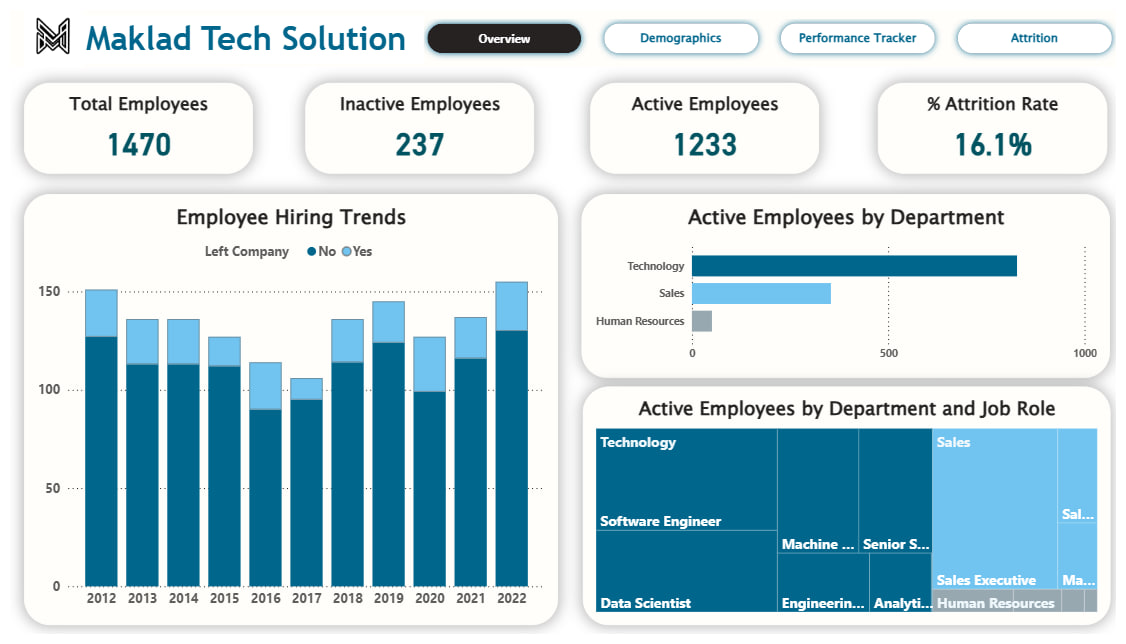

What the dashboard file says about the page in this screenshot:
{"tool":"powerbi","page":{"name":"Overview","canvas":[1280,720],"ordinal":0},"visuals":[{"type":"card","title":"Total Employees","fields":{"Values":["_Measures.TotalEmployees"]},"box":[17.5,84,261.2,103.8],"z":0},{"type":"card","title":"Active Employees","fields":{"Values":["_Measures.ActiveEmployees"]},"box":[665,84,261.2,103.8],"z":1000},{"type":"card","title":"Inactive Employees","fields":{"Values":["_Measures.InactiveEmployees"]},"box":[338.8,84,261.2,103.8],"z":2000},{"type":"card","title":"% Attrition Rate","fields":{"Values":["_Measures.% Attrition Rate"]},"box":[992.5,84,262.5,103.8],"z":3000},{"type":"columnChart","title":"Employee Hiring Trends","fields":{"Series":["DimEmployee.Attrition"],"Y":["_Measures.TotalEmployeesDate"],"Category":["DimDate.Date.Variation.Date Hierarchy.Year","DimDate.Date.Variation.Date Hierarchy.Quarter","DimDate.Date.Variation.Date Hierarchy.Month","DimDate.Date.Variation.Date Hierarchy.Day"]},"box":[17.5,211.2,610,492.5],"z":4000},{"type":"clusteredBarChart","title":"Active Employees by Department","fields":{"Y":["_Measures.ActiveEmployees"],"Category":["DimEmployee.Department"]},"box":[653.8,211.2,603.8,210],"z":5000},{"type":"treemap","title":"Active Employees by Department and Job Role","fields":{"Group":["DimEmployee.Department"],"Values":["_Measures.ActiveEmployees"],"Details":["DimEmployee.JobRole"]},"box":[655.7,431.4,602.9,272.9],"z":6000},{"type":"group","id":"g1","title":"Group 1","box":[0,0,1280,66.2],"z":7000},{"type":"shape","box":[0,0,1280,66.2],"z":7000,"group":"g1"},{"type":"image","box":[0,0,100,66.5],"z":8000},{"type":"pageNavigator","box":[470,8.8,800,50],"z":8000,"group":"g1"},{"type":"textbox","box":[83,6.5,391.5,55],"z":9000,"group":"g1"}]}

Visuals, with their boxes in screenshot pixels (x1, y1, x2, y2), scaled from the page's 1280x720 canvas onto the 1126x644 screenshot:
"Total Employees" card: <region>15, 75, 245, 168</region>
"Active Employees" card: <region>585, 75, 815, 168</region>
"Inactive Employees" card: <region>298, 75, 528, 168</region>
"% Attrition Rate" card: <region>873, 75, 1104, 168</region>
"Employee Hiring Trends" columnChart: <region>15, 189, 552, 629</region>
"Active Employees by Department" clusteredBarChart: <region>575, 189, 1106, 377</region>
"Active Employees by Department and Job Role" treemap: <region>577, 386, 1107, 630</region>
"Group 1" group: <region>0, 0, 1125, 59</region>
shape: <region>0, 0, 1125, 59</region>
image: <region>0, 0, 88, 59</region>
pageNavigator: <region>413, 8, 1117, 53</region>
textbox: <region>73, 6, 417, 55</region>
